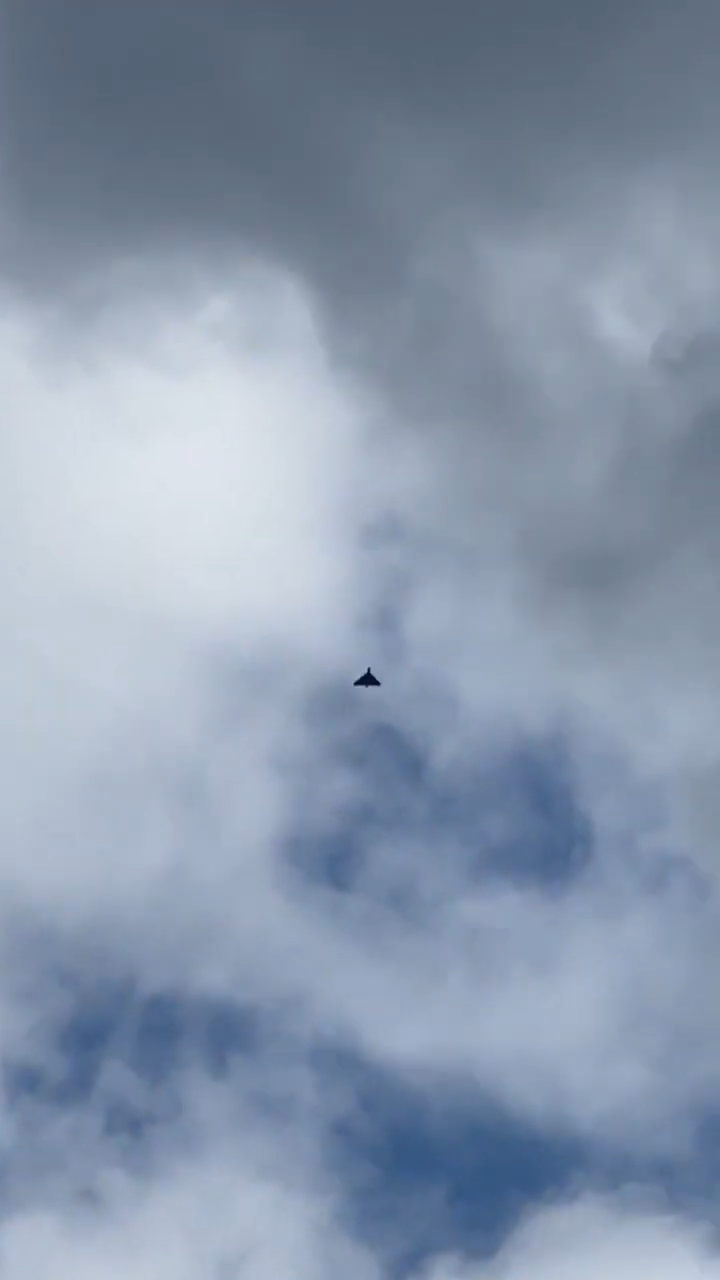shahed: (352, 666, 383, 689)
